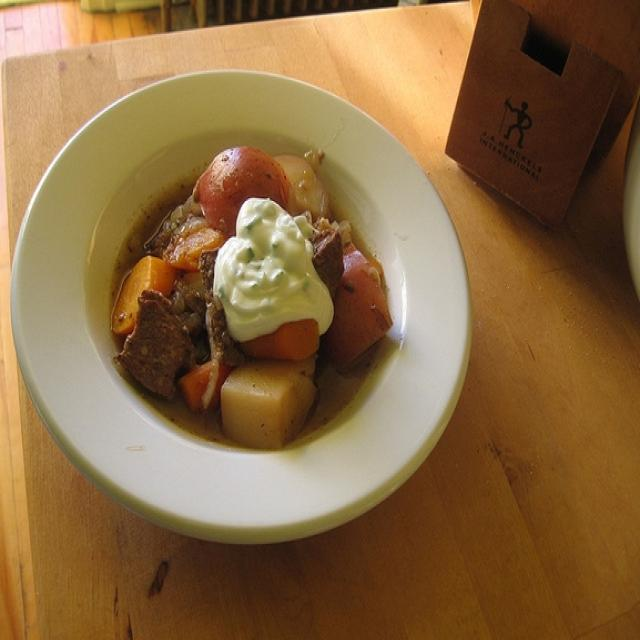汤锅炖物: (8, 77, 467, 541)
